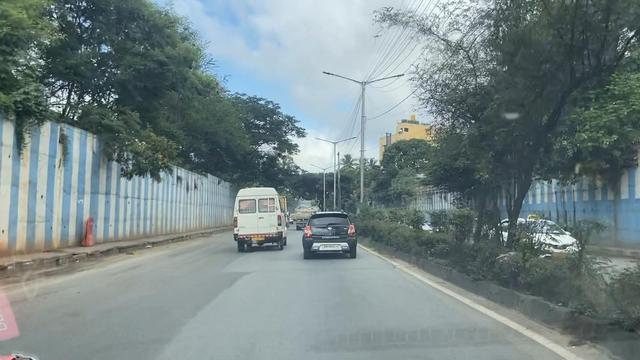HMV: (233, 189, 280, 245)
LMV: (301, 215, 354, 257)
UnsurfacedRoad: (156, 273, 242, 338)
